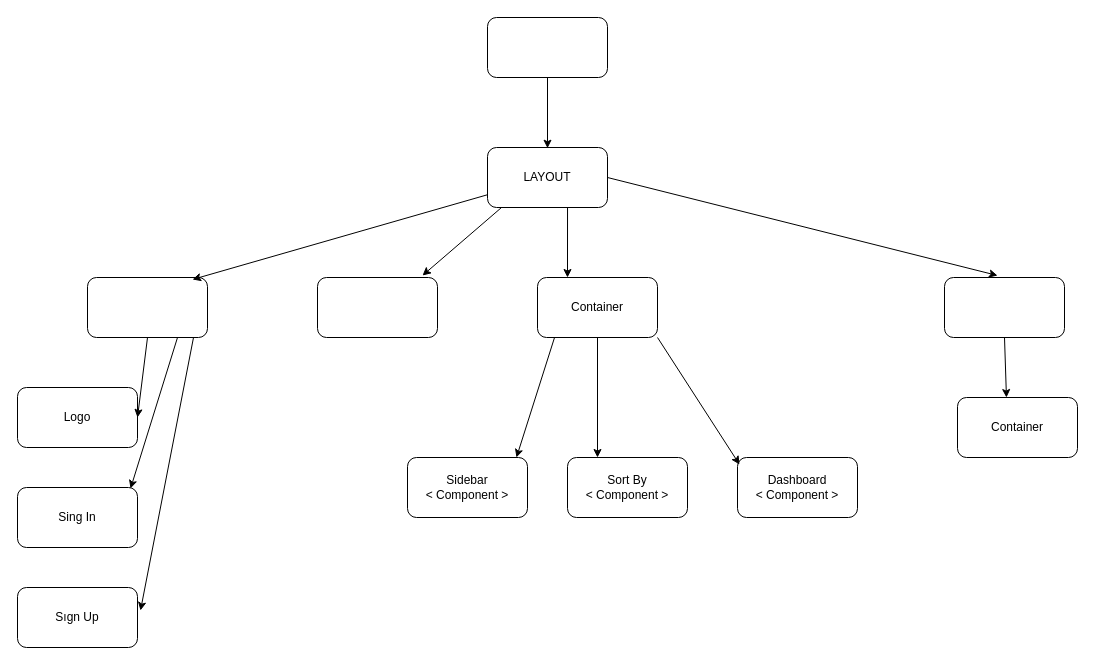
This 1095x665 diagram has some shape labels left out. The shapes that lost their labels are listed below. From the top down, each one's centre as x and y in pixels, then its label:
At (x=547, y=47): "HRMS APP".
At (x=147, y=307): "Navi < Component >".
At (x=377, y=307): "Filter < Component >".
At (x=1004, y=307): "Footer < Component>".
